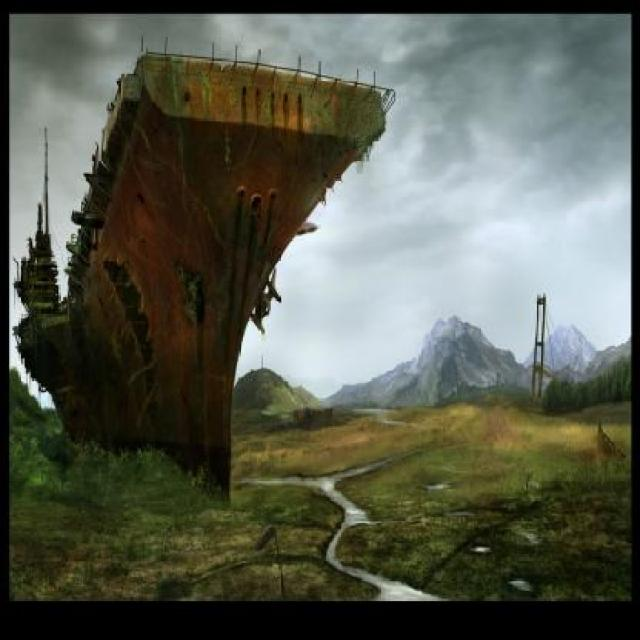corrosion: (16, 49, 390, 496)
